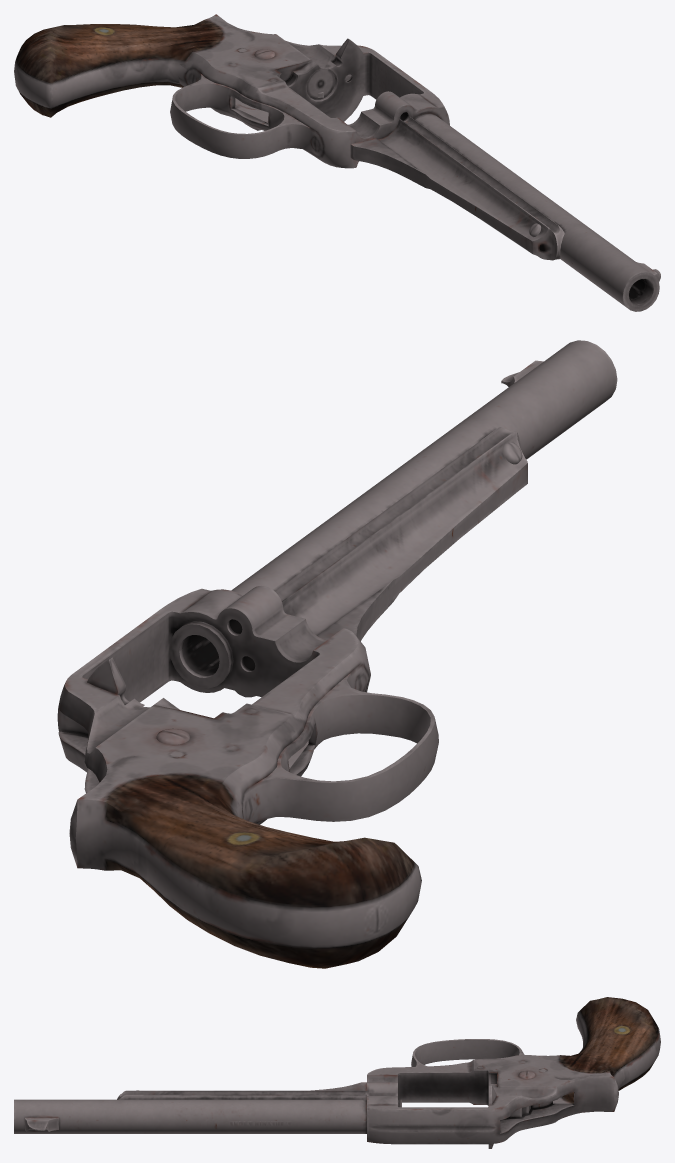
The model's file is SM_Brimstone_01a.fbx.
3 renders of one model, top to bottom at view 1: azimuth 30°, elevation 25°; view 2: azimuth 150°, elevation 25°; view 3: azimuth 270°, elevation 25°, orthographic. The views are drawn at different scales.
Parts seen in each view (by area): view 1: SM_Brimstone_01a_LOD0; view 2: SM_Brimstone_01a_LOD0; view 3: SM_Brimstone_01a_LOD0.
Boxes of the visible parts, left/top/right/bottom form: SM_Brimstone_01a_LOD0: left=14, top=14, right=660, bottom=311; SM_Brimstone_01a_LOD0: left=57, top=340, right=617, bottom=968; SM_Brimstone_01a_LOD0: left=14, top=997, right=660, bottom=1148.
Size of the model in its own units: 14.29 by 34.44 by 4.13.
